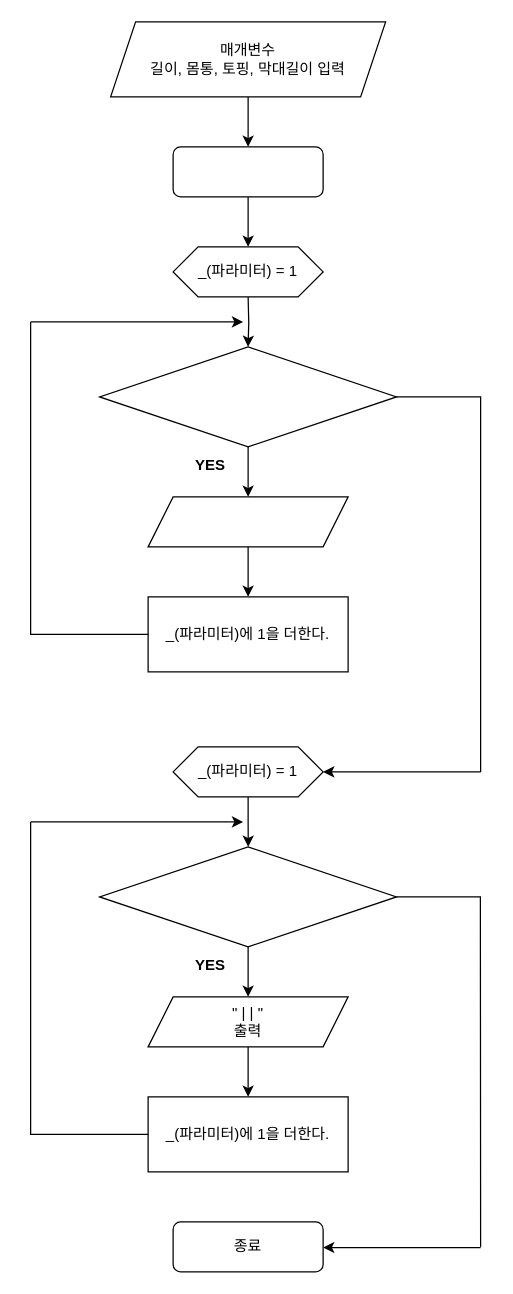
This 513x1294 diagram has some shape labels left out. The shapes that lost their labels are listed below. From the top down, each one's centre as x and y in pixels, then its label:
the point at 247,171: makePepero() 실행
the point at 247,396: _(파라미터) 가 길이보다 같거나 작은가?
the point at 247,521: "(토핑)(몸통)(토핑)" 출력
the point at 247,896: _(파라미터) 가 막대길이보다 같거나 작은가?
